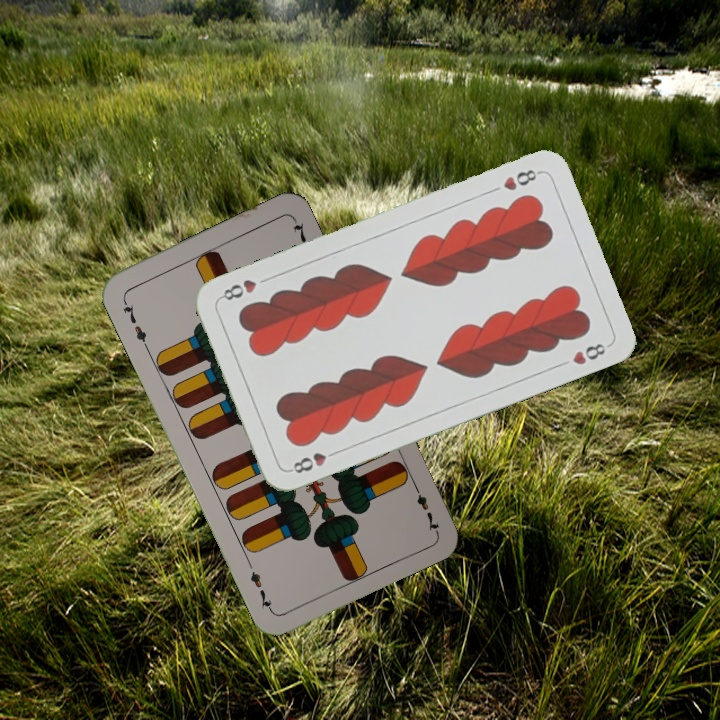E7: (118, 295, 151, 351), (409, 479, 441, 534)
H8: (285, 446, 342, 476), (499, 165, 543, 193)
